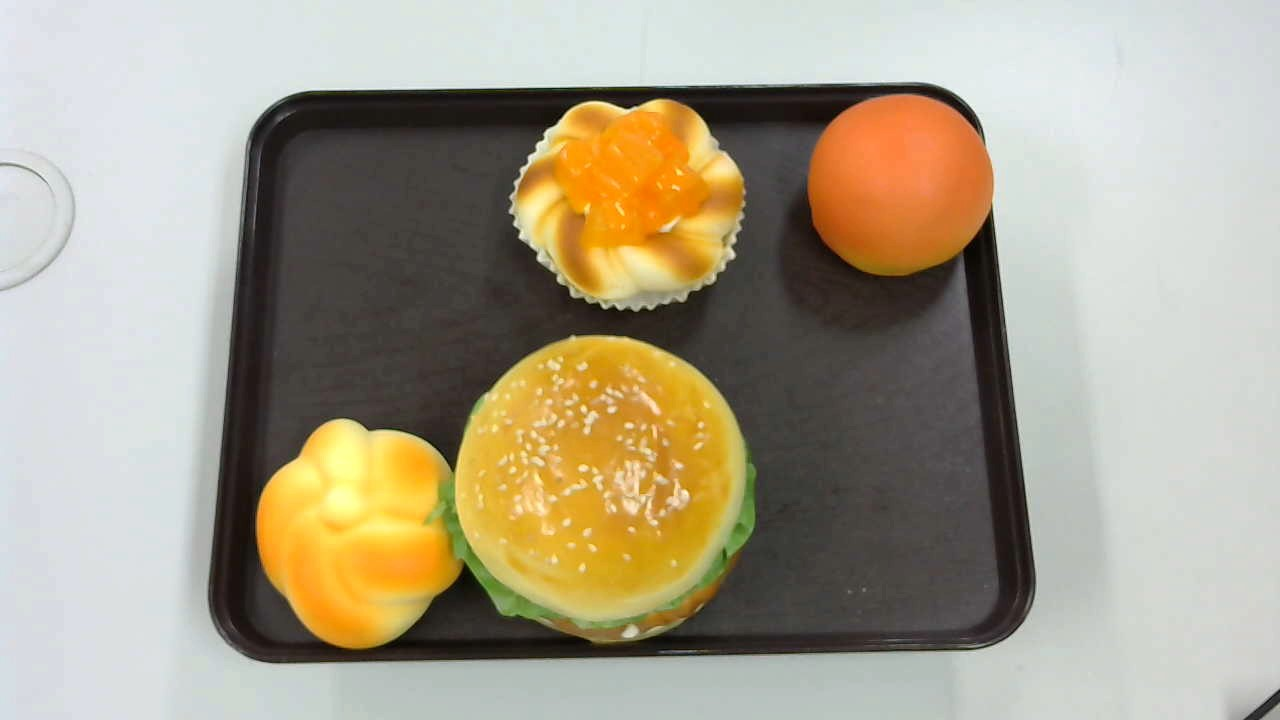bun: (806, 93, 995, 278)
hamburger: (454, 333, 759, 645)
mango tart: (510, 100, 746, 312)
twist bread: (254, 415, 464, 650)
